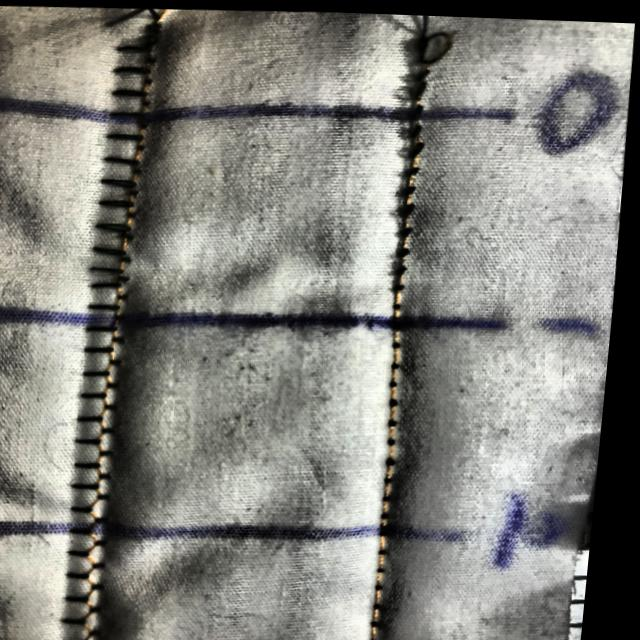Stitch: (395, 16, 470, 224)
